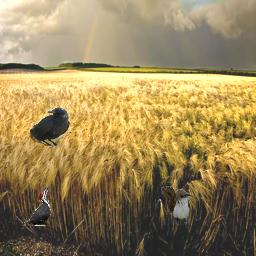Crow: (30, 107, 70, 146)
Cuckoo: (161, 186, 191, 226)
Woodpecker: (20, 186, 51, 226)
